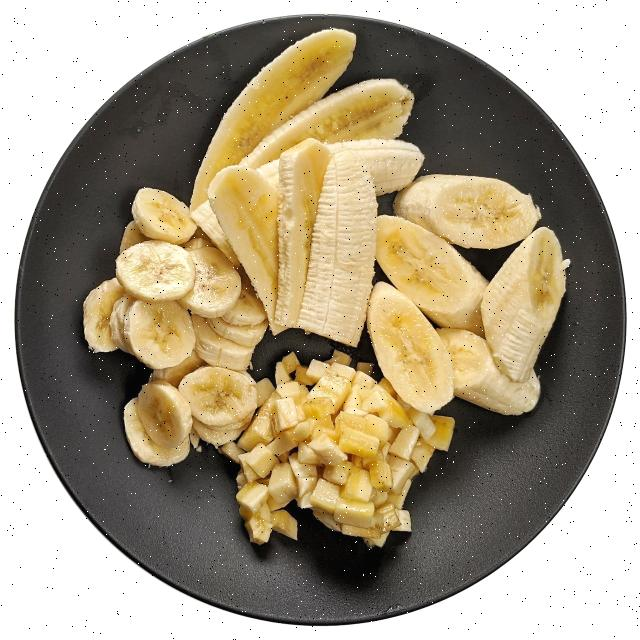Banana: (88, 85, 538, 492)
